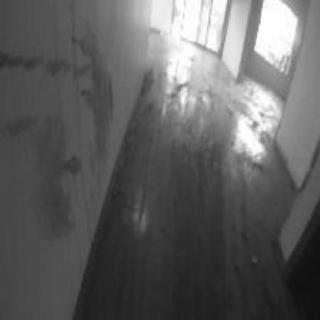other: (144, 0, 181, 44), (123, 200, 155, 240)
